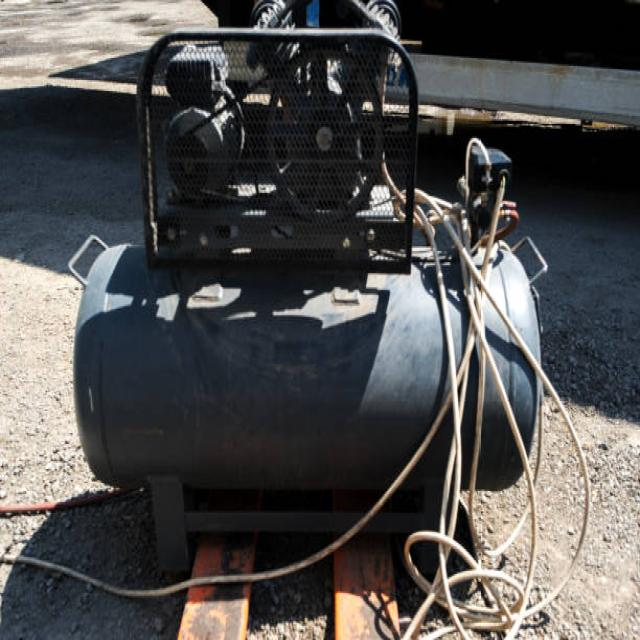compressor: (21, 40, 616, 543)
